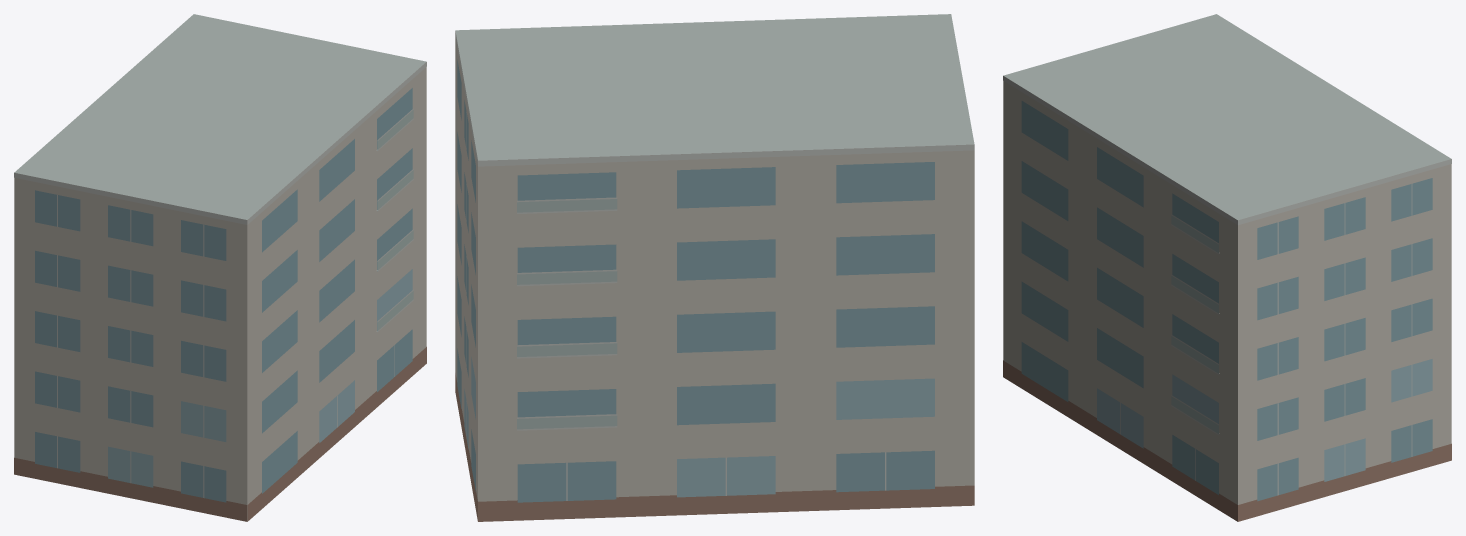
The model's file is survey-upis-32634016.glb.
3 renders of one model, left to right at view 1: azimuth 30°, elevation 25°; view 2: azimuth 150°, elevation 25°; view 3: azimuth 270°, elevation 25°, orthographic. The views are drawn at different scales.
Visible parts, largest first — view 1: survey-upis-32634016.tmp; view 2: survey-upis-32634016.tmp; view 3: survey-upis-32634016.tmp.
Boxes of the visible parts, x1=… form: survey-upis-32634016.tmp: x1=14, y1=14, x2=426, y2=521; survey-upis-32634016.tmp: x1=455, y1=14, x2=974, y2=521; survey-upis-32634016.tmp: x1=1003, y1=14, x2=1451, y2=521.
Size of the model in its own units: 21.8 by 14.85 by 20.03.
